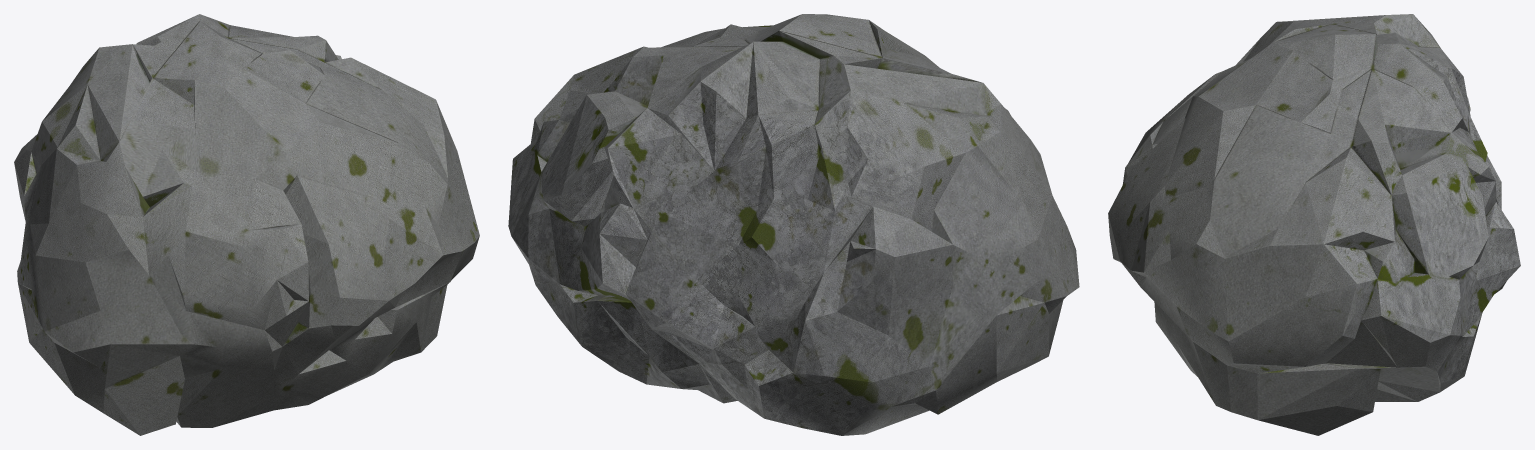
File: rock.glb
3 views of the same model, side by side, from view 1: azimuth 30°, elevation 25°; view 2: azimuth 150°, elevation 25°; view 3: azimuth 270°, elevation 25° (orthographic). The views are drawn at different scales.
Size of the model in its own units: 1.9 by 1.35 by 1.54.
1 material, 1 textured.
